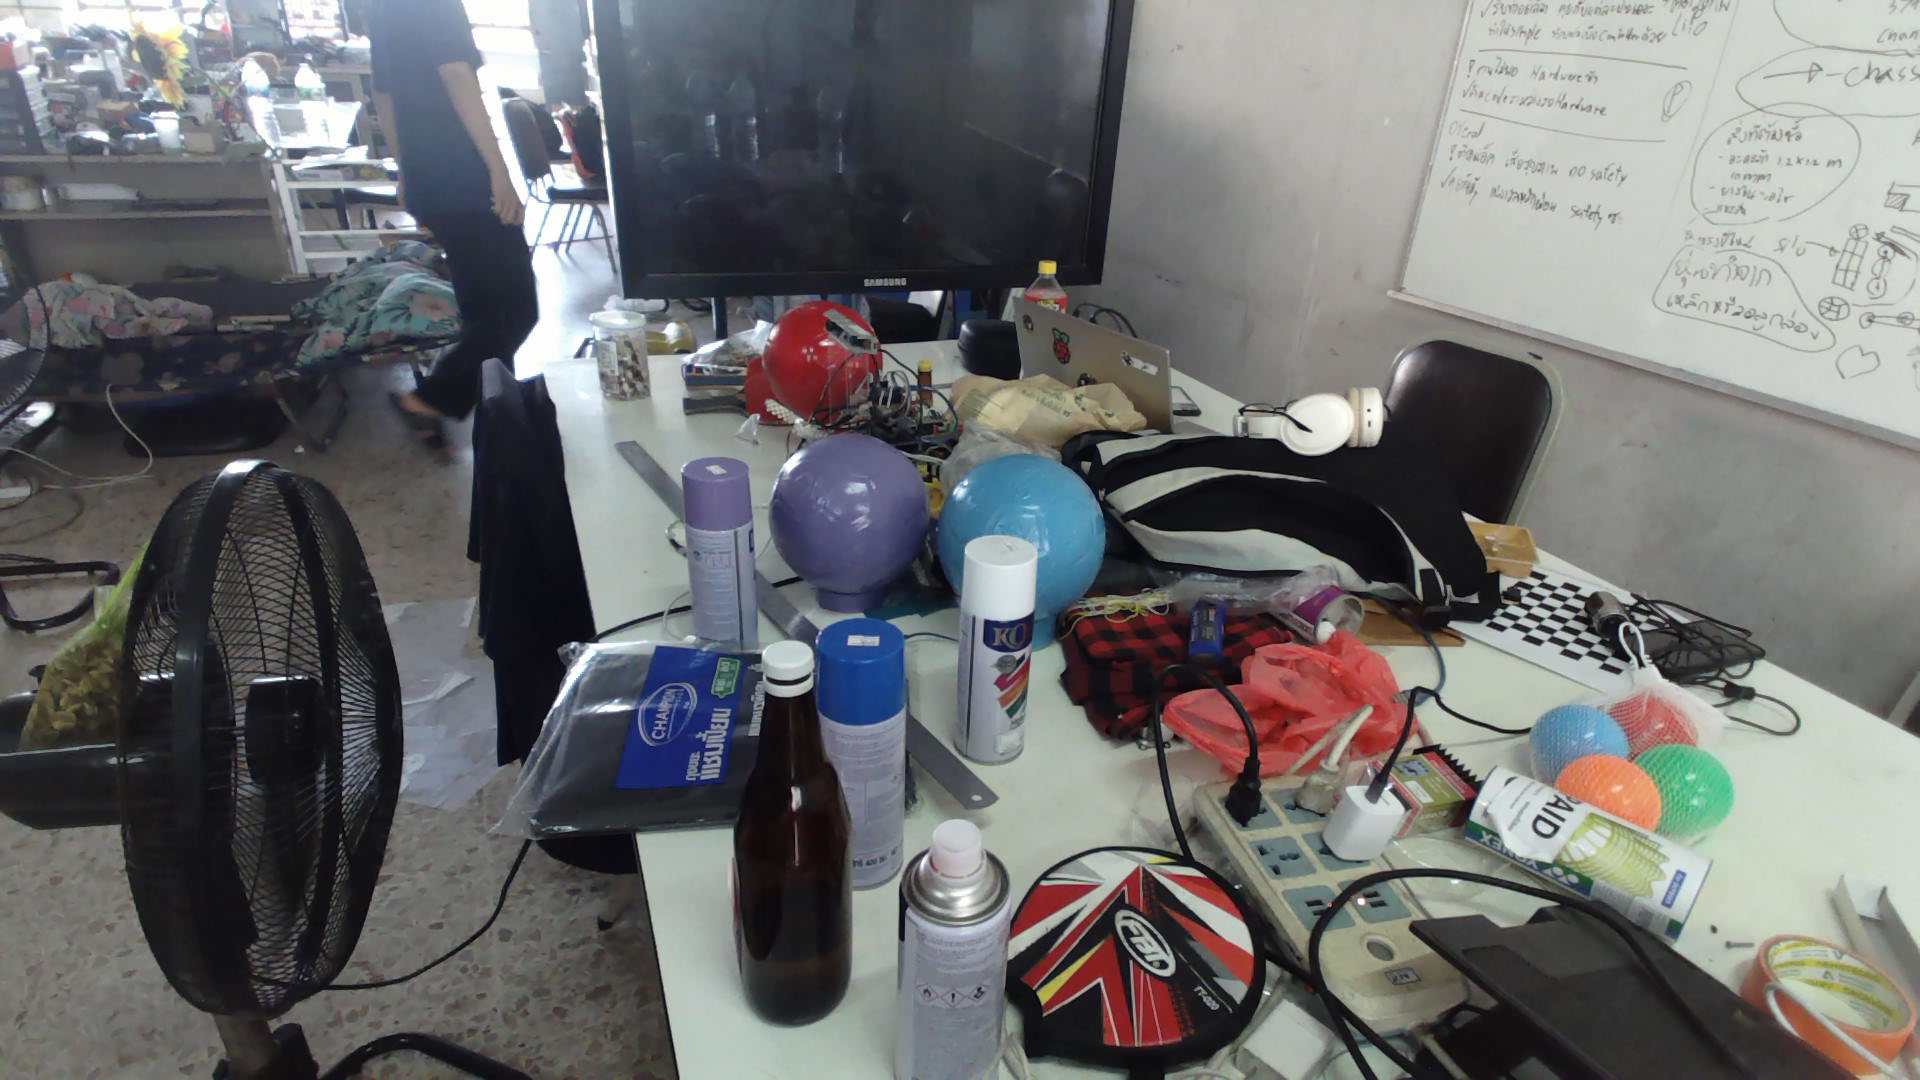Blue ball: (936, 454, 1106, 617)
Purple ball: (765, 431, 931, 596)
Red ball: (762, 299, 881, 400)
